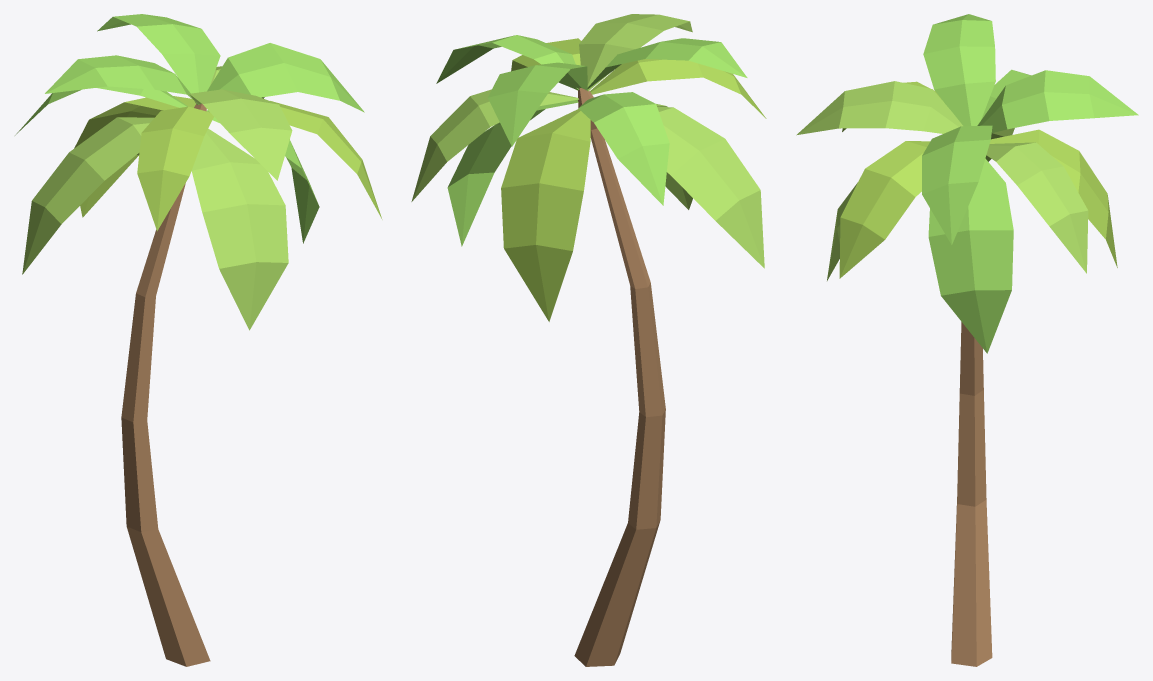
The model's file is Palm_Tree_OneSided_l_03_LOD.fbx.
3 renders of one model, left to right at view 1: azimuth 30°, elevation 25°; view 2: azimuth 150°, elevation 25°; view 3: azimuth 270°, elevation 25°, orthographic. The views are drawn at different scales.
Parts seen in each view (by area): view 1: Palm_Tree_OneSided_l_03_LOD0; view 2: Palm_Tree_OneSided_l_03_LOD0; view 3: Palm_Tree_OneSided_l_03_LOD0.
Boxes of the visible parts, box(x1,y1,x2,y2) form: Palm_Tree_OneSided_l_03_LOD0: box(15, 14, 382, 666); Palm_Tree_OneSided_l_03_LOD0: box(411, 14, 766, 666); Palm_Tree_OneSided_l_03_LOD0: box(796, 14, 1138, 666).
Size of what is drawn, in the model's own units: 442 by 784 by 412.
